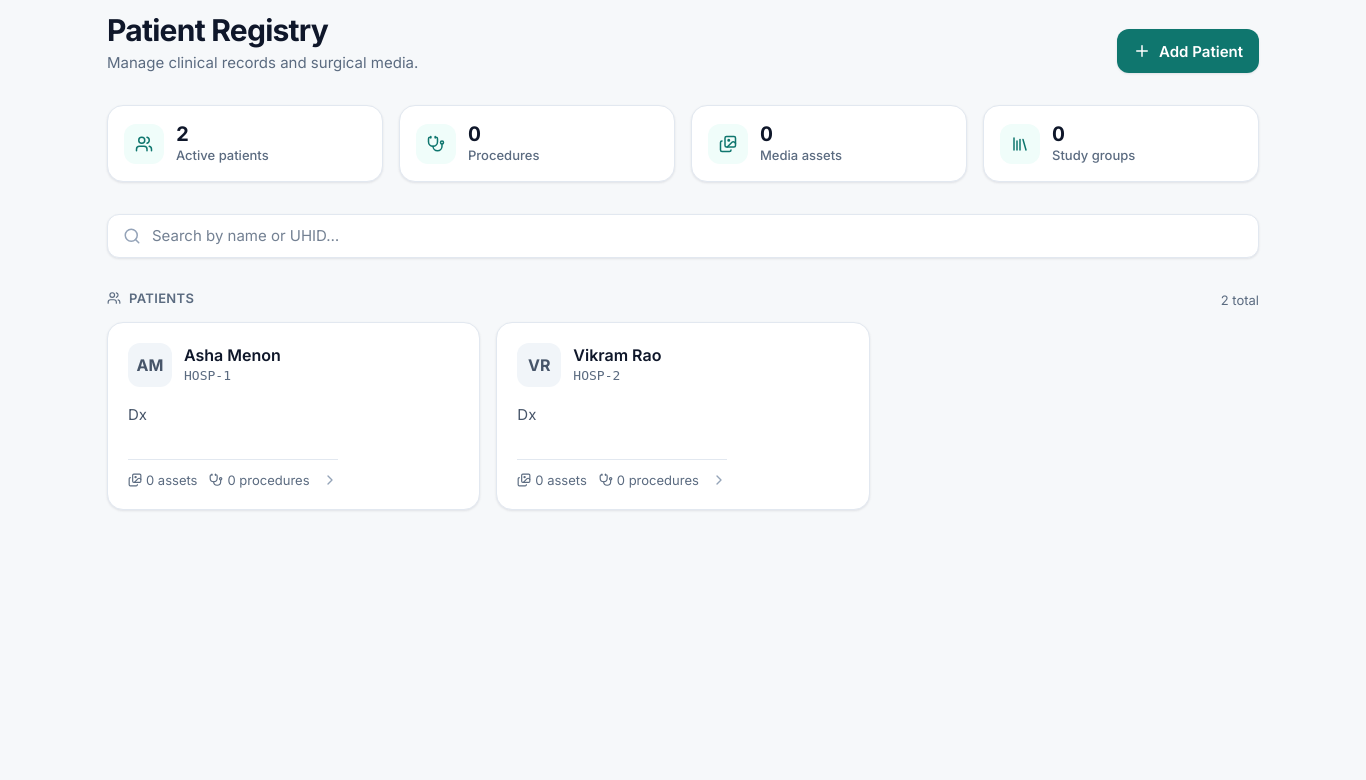
Test case: Dashboard › filters the registry by search term
The width and height of the screenshot is (1366, 780).
Expected: the text "Asha Menon" is shown, [184, 345, 281, 365]
Type "hosp-2" into the search field at (683, 236), box [107, 214, 1259, 258]
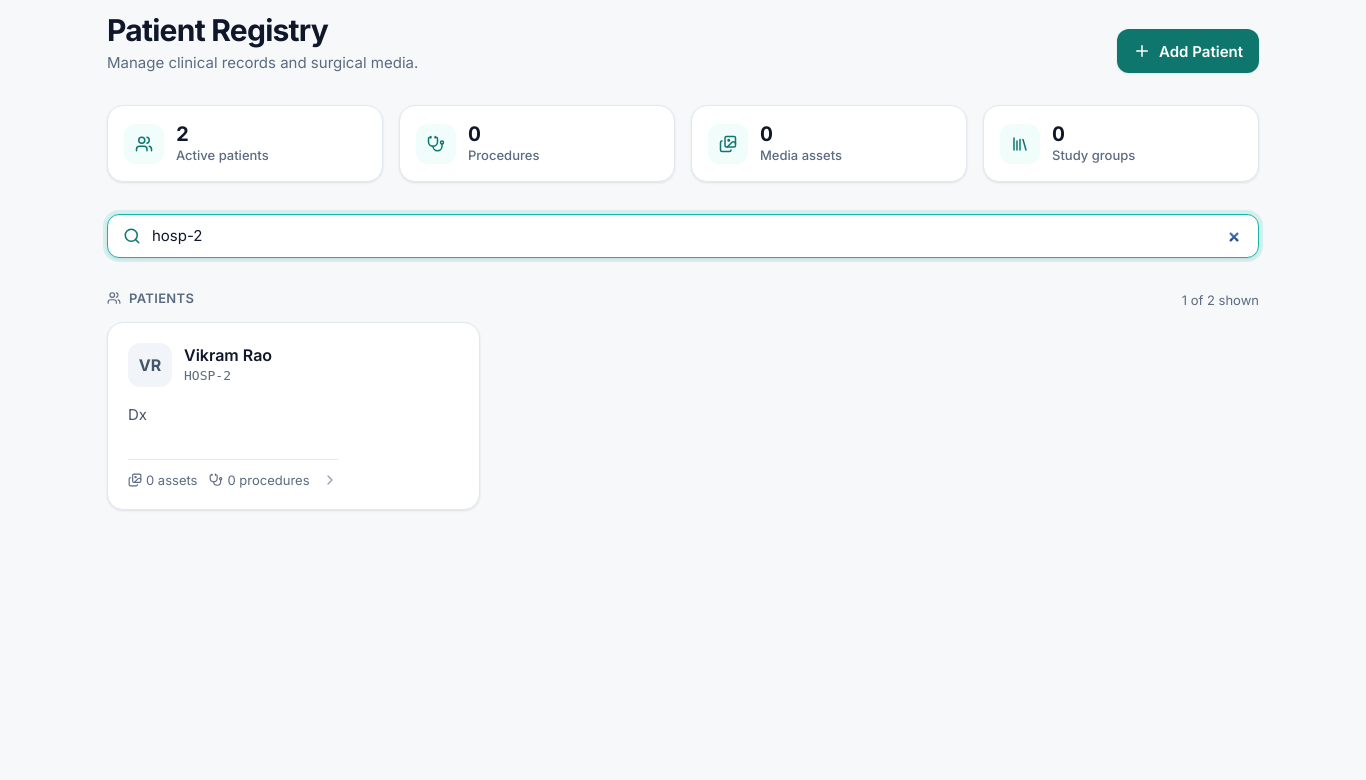
Expected: the text "Vikram Rao" is shown, [184, 345, 272, 365]
Expected: the button "Asha Menon" is gone
Replace the text in the search field with "nobody" at (683, 236), box [107, 214, 1259, 258]
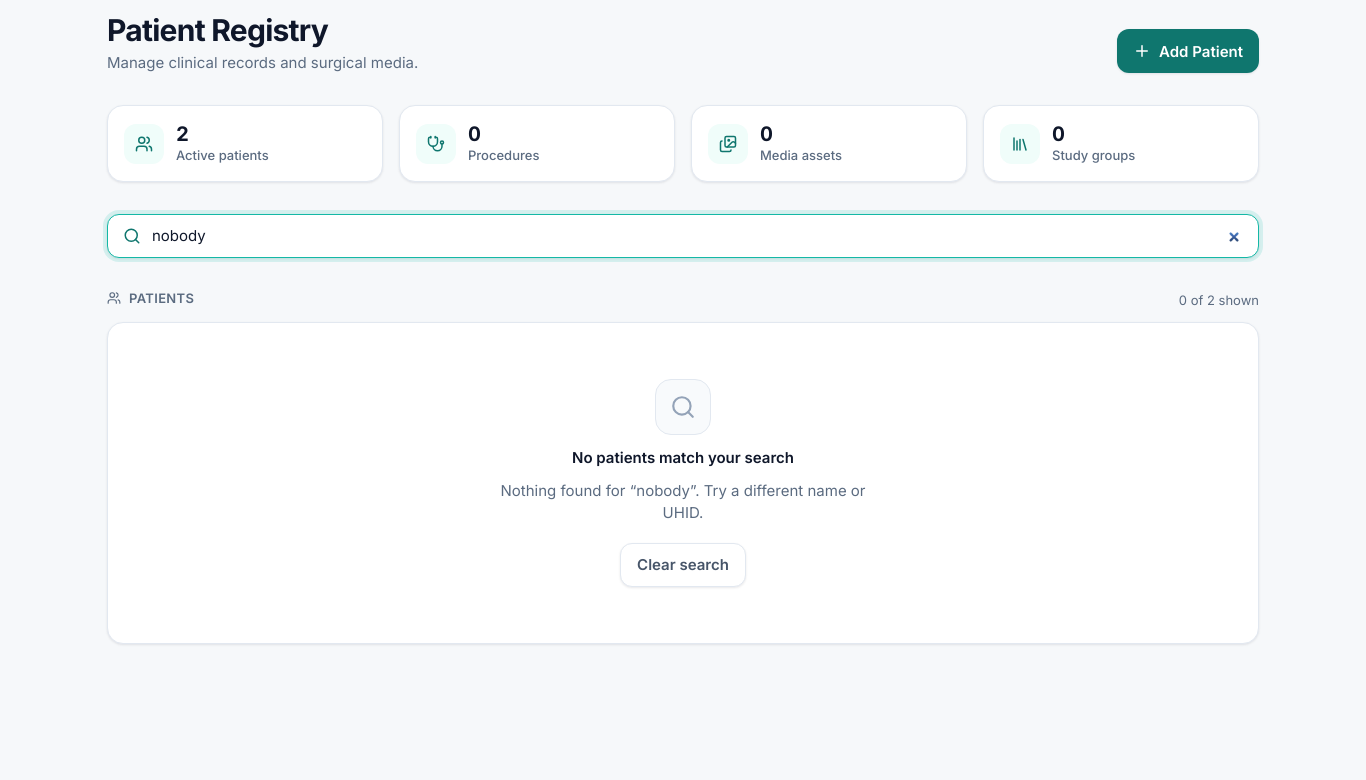
Expected: the text "No patients match your search" is shown, [572, 447, 794, 468]
